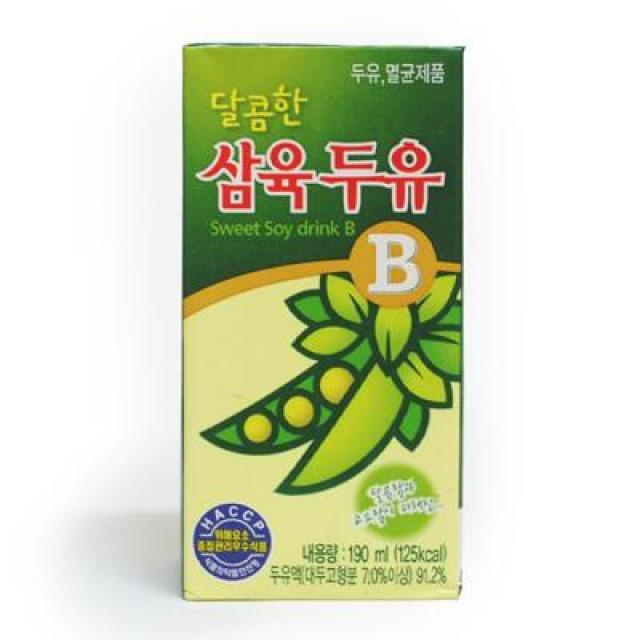Tetra: (158, 26, 482, 610)
